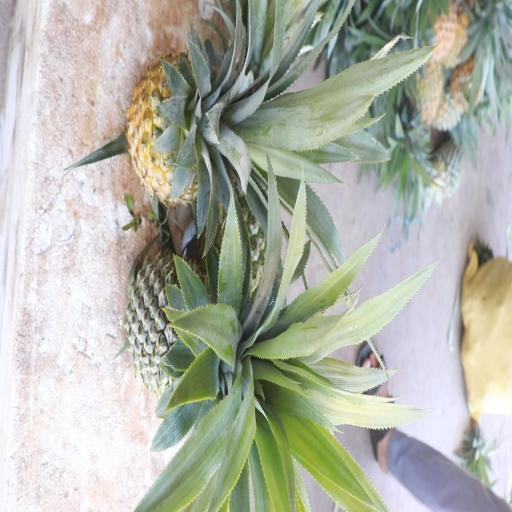Pineapple - v8 v1: (120, 58, 309, 217)
